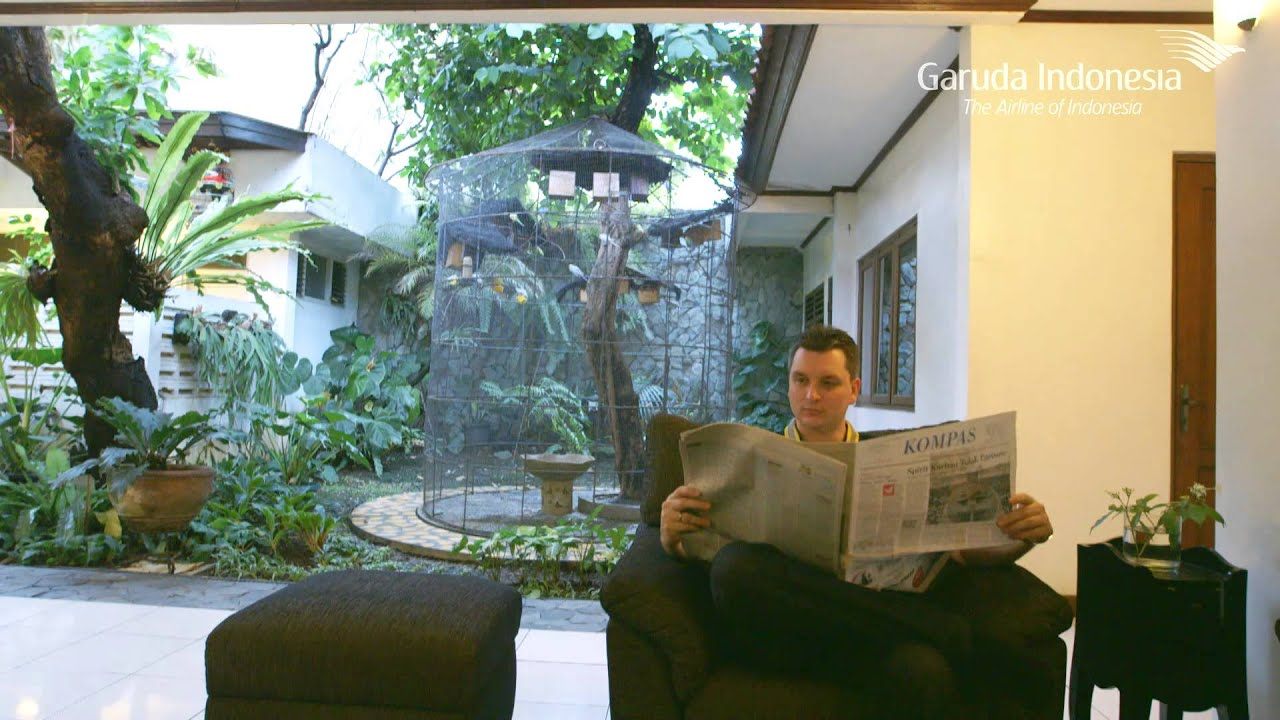meja: (1061, 538, 1266, 716)
sova: (611, 422, 1071, 720)
tanaman: (152, 112, 309, 294), (174, 303, 305, 430), (67, 29, 211, 130), (390, 34, 523, 142), (101, 416, 211, 538), (319, 330, 413, 466), (4, 398, 85, 554), (1088, 483, 1231, 550)
